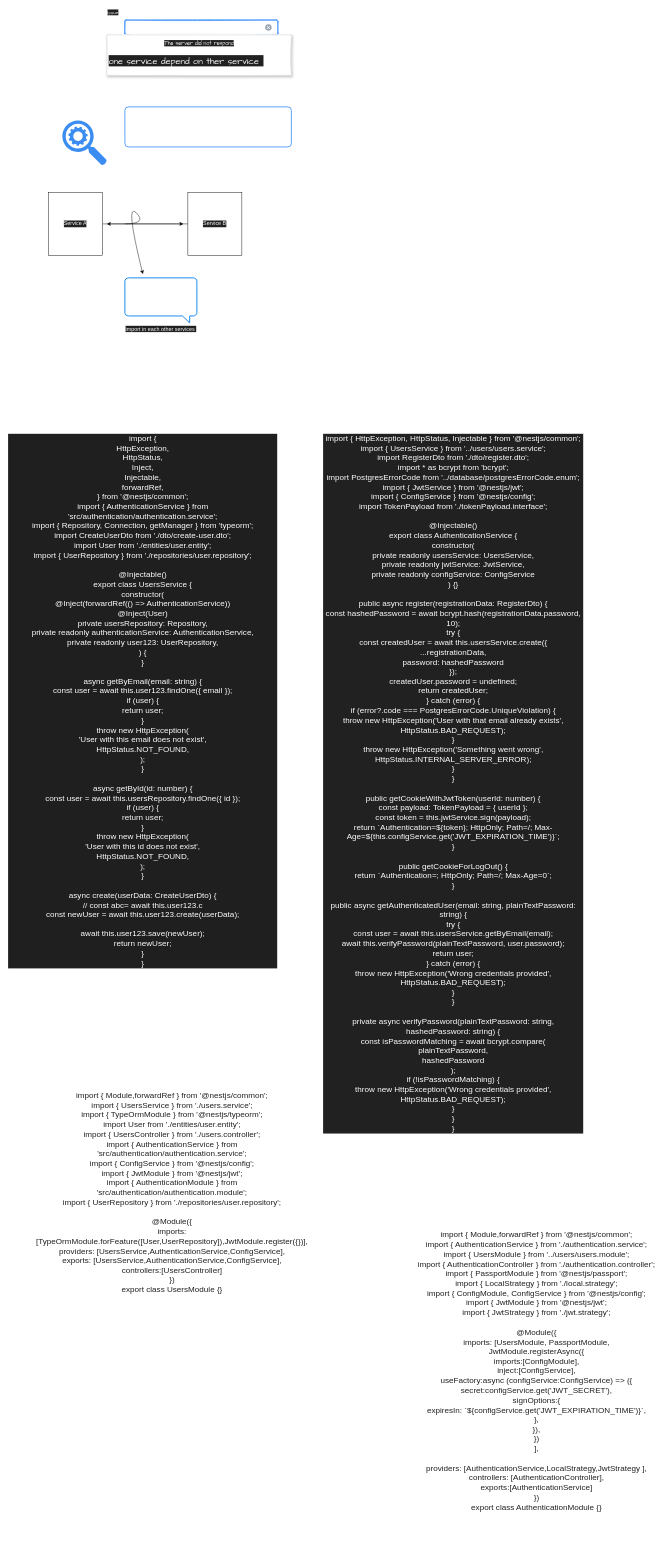
The diagram is 668 pixels wide and 1541 high, and some of its shapes have lost their labels. The centre of each missing label's shape, as x and y in pixels:
Dependency Error: pixel 201 27
forwardRef : dependent servies import in each other services: pixel 208 126
